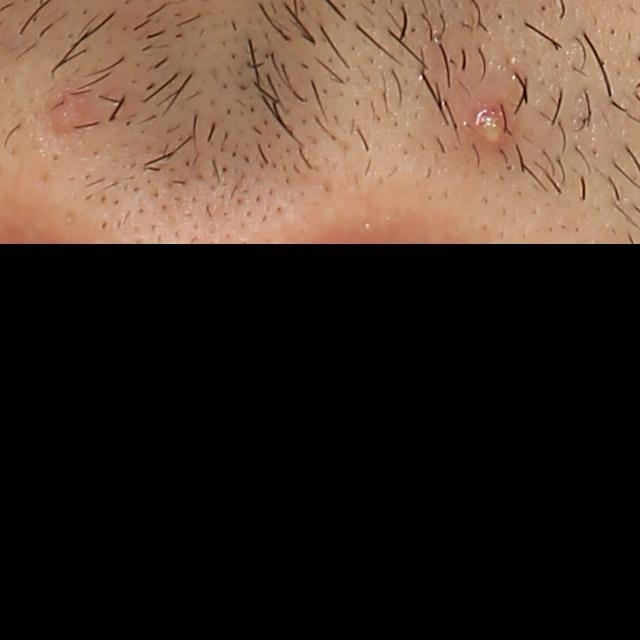papule: (43, 80, 92, 139)
pustule: (458, 94, 520, 154)
